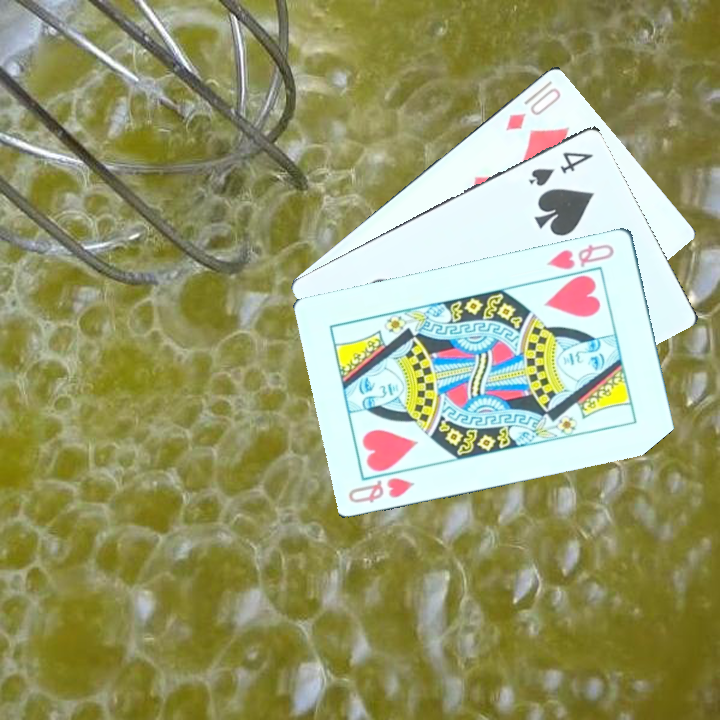10d: (501, 83, 564, 134)
4s: (525, 147, 596, 189)
Qh: (344, 461, 424, 506), (543, 239, 617, 272)
